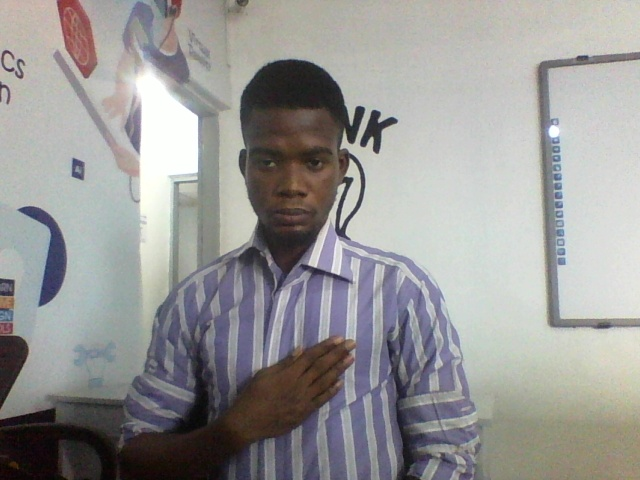please: (197, 334, 360, 469)
